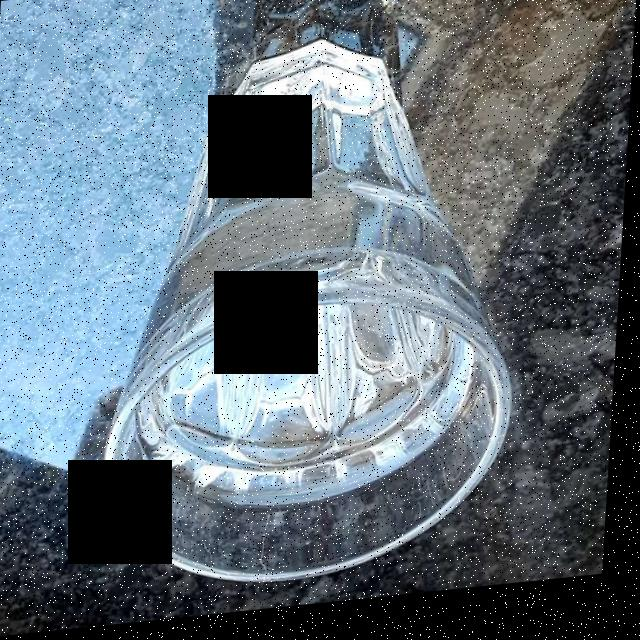water: (116, 69, 483, 507)
